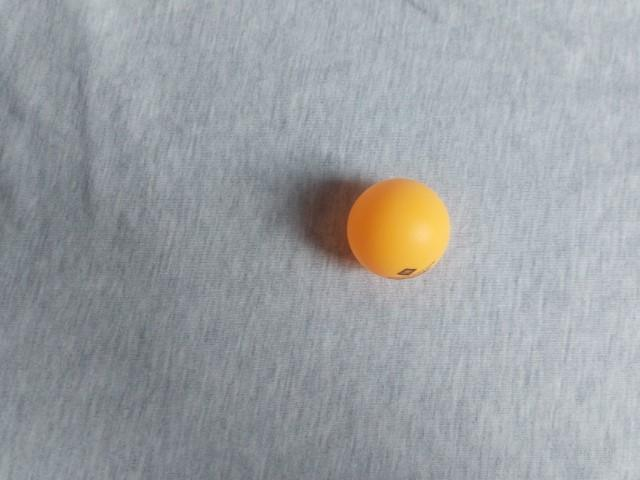oball: (175, 194, 300, 312)
